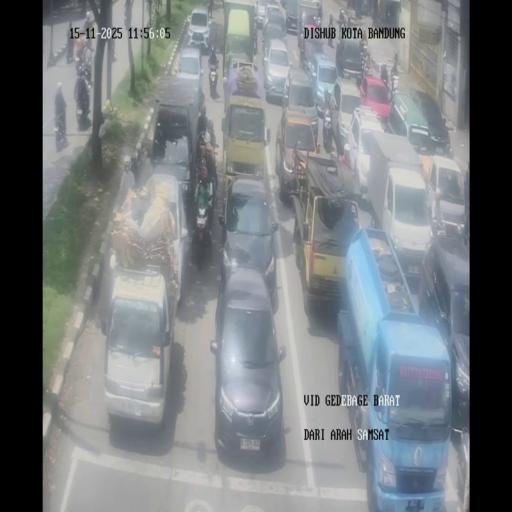car: (210, 268, 286, 462), (102, 266, 177, 430), (218, 178, 279, 300), (220, 92, 267, 190), (388, 88, 450, 157), (275, 106, 318, 200), (425, 154, 466, 234), (332, 77, 364, 151), (174, 46, 206, 106), (308, 54, 338, 117), (262, 39, 292, 101), (359, 75, 393, 122), (335, 37, 364, 82), (298, 20, 323, 68), (187, 6, 211, 51), (264, 5, 286, 37), (282, 0, 300, 32)
motorcycle: (191, 199, 212, 268), (195, 140, 218, 196), (54, 108, 68, 150), (207, 20, 222, 53), (208, 57, 220, 98), (74, 91, 86, 129), (66, 20, 76, 63), (322, 117, 333, 154), (205, 116, 217, 149), (80, 59, 92, 87), (82, 36, 95, 60), (123, 0, 133, 27), (328, 16, 336, 48), (390, 70, 399, 97), (359, 36, 367, 63), (362, 57, 372, 78), (338, 8, 348, 28), (197, 130, 207, 150), (380, 70, 389, 92), (445, 141, 454, 159), (152, 0, 162, 16), (312, 13, 321, 29), (356, 71, 364, 88), (253, 30, 258, 57), (208, 0, 214, 19)
truck: (337, 231, 450, 507), (290, 154, 360, 317), (361, 130, 428, 254), (150, 80, 204, 212), (223, 5, 254, 76)
